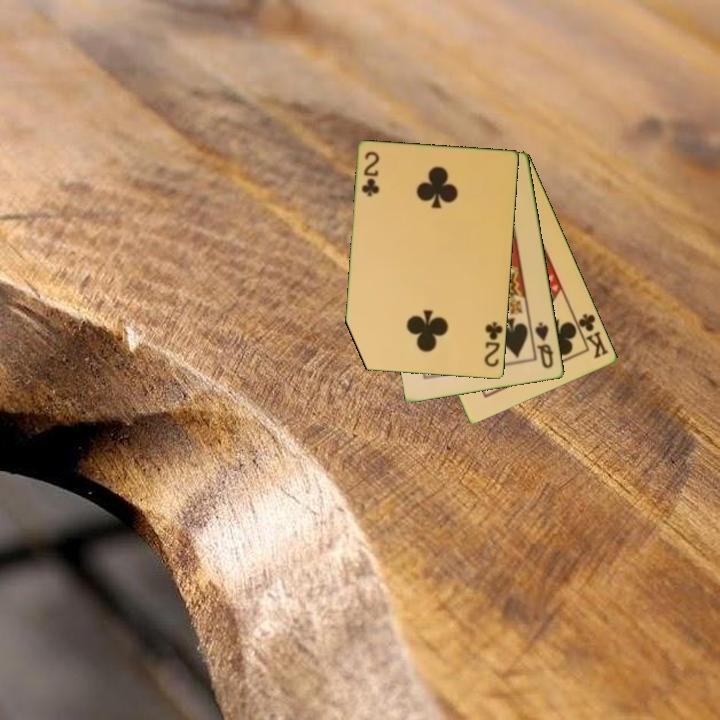2c: (481, 318, 505, 370), (358, 148, 382, 199)
Kc: (571, 310, 612, 361)
Qs: (532, 319, 557, 372)
